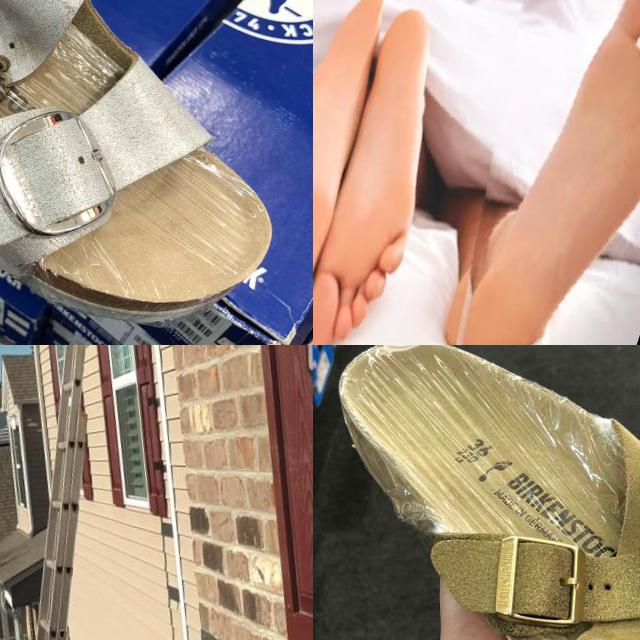Barefoots: (417, 0, 640, 345), (313, 0, 482, 345), (313, 0, 405, 345)
Sandals: (313, 345, 640, 640), (0, 0, 274, 345)
